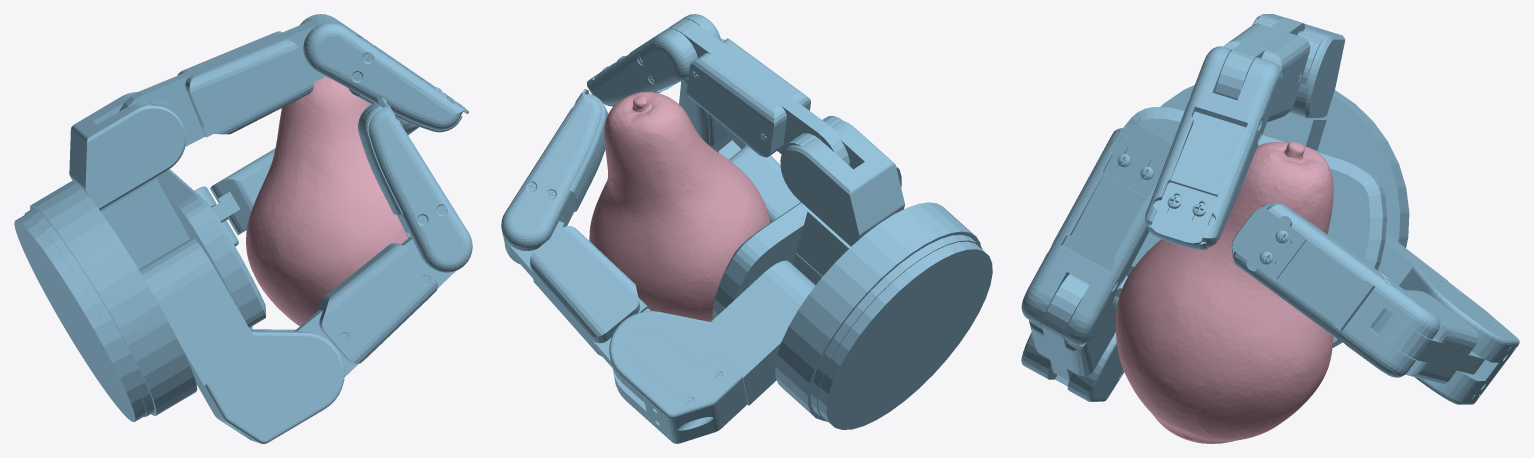
The picture shows the model from 3 angles, left to right: view 1: azimuth 30°, elevation 25°; view 2: azimuth 150°, elevation 25°; view 3: azimuth 270°, elevation 25°; orthographic projection. The views are drawn at different scales.
Parts seen in each view (by area): view 1: world; view 2: world; view 3: world.
Boxes of the visible parts, left/top/right/bottom form: world: left=14, top=14, right=472, bottom=443; world: left=501, top=14, right=992, bottom=443; world: left=1021, top=14, right=1519, bottom=443.
Size of the model in its own units: 0.1687 by 0.1409 by 0.1503.
